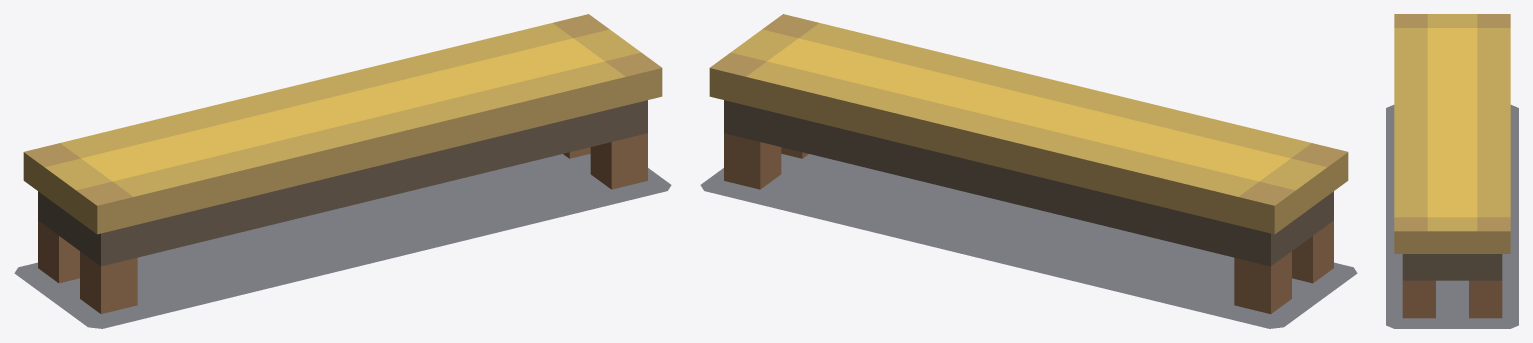
File: modelo.obj
3 views of the same model, side by side, from view 1: azimuth 30°, elevation 25°; view 2: azimuth 150°, elevation 25°; view 3: azimuth 270°, elevation 25° (orthographic). The views are drawn at different scales.
Parts seen in each view (by area): view 1: polygon1, polygon0; view 2: polygon1, polygon0; view 3: polygon1, polygon0.
Part boxes in pixels (<box>): polygon1: <box>23,14,662,314</box>; polygon0: <box>14,154,671,328</box>; polygon1: <box>709,14,1348,314</box>; polygon0: <box>700,154,1357,328</box>; polygon1: <box>1394,14,1510,318</box>; polygon0: <box>1386,105,1518,328</box>.
Bounding box in the file's own units: 64 × 12.5 × 16.
Materials: 2 (2 with a texture image).
